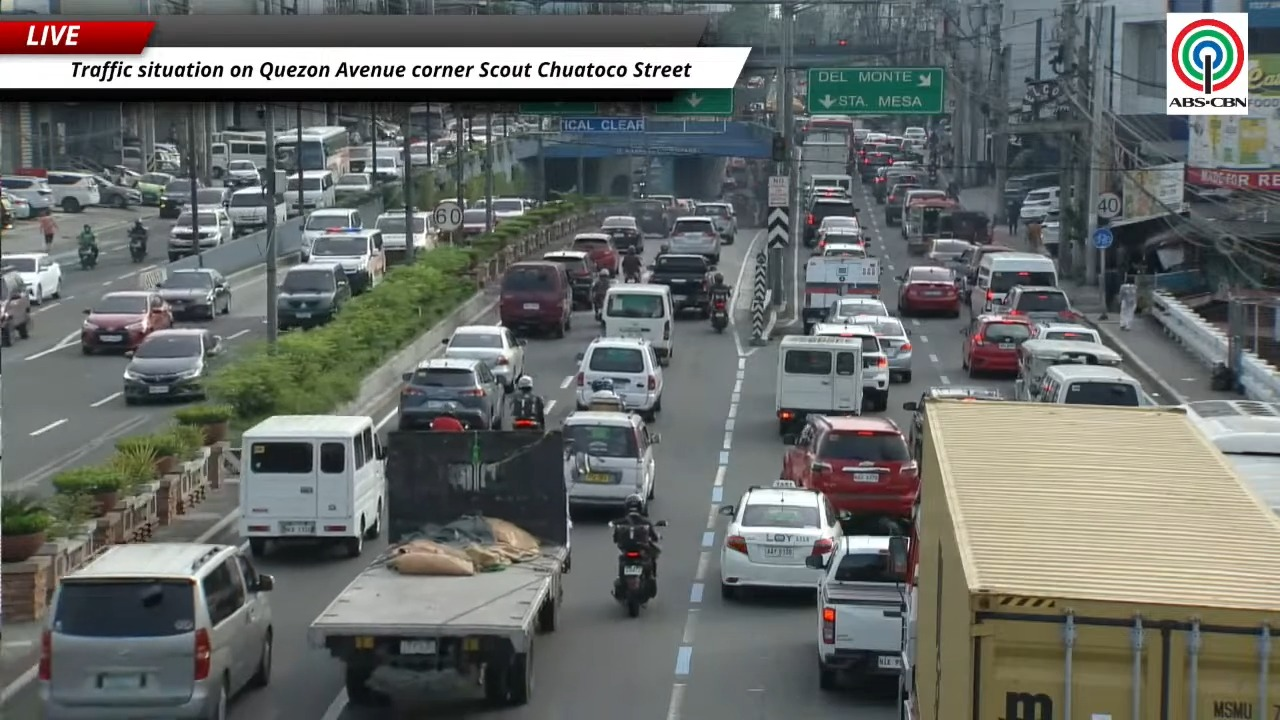bus: (1184, 399, 1279, 513), (276, 126, 349, 177), (210, 131, 266, 177)
car: (39, 543, 274, 719), (806, 533, 908, 691), (719, 481, 842, 598), (781, 414, 919, 517), (398, 357, 505, 429), (122, 328, 222, 404), (902, 385, 1004, 459), (575, 338, 663, 421), (810, 322, 890, 411), (81, 290, 172, 354), (499, 260, 571, 337), (443, 325, 526, 391), (277, 262, 351, 330), (962, 314, 1032, 376), (851, 316, 912, 381), (155, 268, 231, 318), (167, 205, 233, 261), (898, 266, 961, 317), (0, 252, 61, 304), (999, 285, 1080, 323), (543, 251, 596, 308), (227, 186, 286, 235), (662, 216, 721, 264), (803, 196, 858, 246), (959, 244, 1014, 289), (0, 268, 31, 346), (0, 175, 54, 215), (571, 232, 620, 276), (692, 202, 737, 243), (872, 166, 920, 204), (822, 297, 891, 323), (89, 175, 141, 208), (885, 176, 920, 225), (811, 226, 866, 256), (926, 238, 973, 272), (600, 215, 643, 251), (1020, 186, 1060, 224), (1032, 322, 1103, 343), (633, 198, 671, 236), (159, 178, 192, 218), (134, 172, 173, 205), (817, 215, 860, 243), (814, 235, 866, 257), (222, 160, 261, 187), (859, 151, 892, 182), (0, 192, 33, 220), (493, 197, 530, 220), (335, 173, 373, 195), (196, 186, 233, 207), (805, 185, 849, 202), (460, 208, 487, 235), (903, 126, 926, 141), (747, 76, 764, 88)
motorcycle: (613, 547, 655, 616), (710, 296, 728, 332), (592, 283, 607, 321), (129, 235, 146, 262), (78, 244, 96, 269), (513, 418, 540, 430), (624, 271, 640, 283)
truck: (891, 399, 1279, 719), (308, 431, 570, 706), (805, 535, 905, 690), (800, 255, 880, 333), (647, 253, 710, 318), (799, 134, 849, 187)
